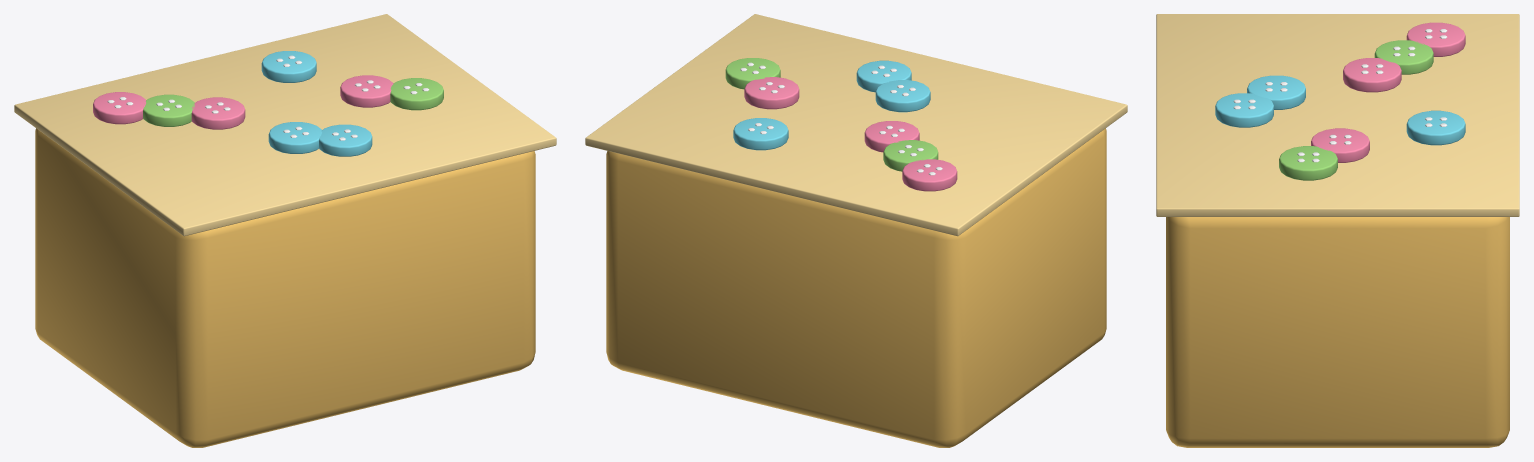
The model's file is object-button-box.glb.
The picture shows the model from 3 angles, left to right: view 1: azimuth 30°, elevation 25°; view 2: azimuth 150°, elevation 25°; view 3: azimuth 270°, elevation 25°; orthographic projection. The views are drawn at different scales.
Visible parts, largest first — view 1: Node_0-mesh, part-button-7-mesh, part-button-6-mesh, part-button-5-mesh, part-button-4-mesh, part-button-2-mesh, part-button-0-mesh, part-button-1-mesh, part-button-3-mesh; view 2: Node_0-mesh, part-button-7-mesh, part-button-0-mesh, part-button-1-mesh, part-button-2-mesh, part-button-3-mesh, part-button-4-mesh, part-button-5-mesh, part-button-6-mesh; view 3: Node_0-mesh, part-button-7-mesh, part-button-5-mesh, part-button-4-mesh, part-button-6-mesh, part-button-0-mesh, part-button-3-mesh, part-button-1-mesh, part-button-2-mesh.
Boxes of the visible parts, <box> form: Node_0-mesh: <box>14,14,556,447</box>; part-button-7-mesh: <box>261,51,316,82</box>; part-button-6-mesh: <box>191,97,245,129</box>; part-button-5-mesh: <box>390,78,443,110</box>; part-button-4-mesh: <box>319,124,372,156</box>; part-button-2-mesh: <box>340,75,393,107</box>; part-button-0-mesh: <box>93,92,145,124</box>; part-button-1-mesh: <box>268,122,321,153</box>; part-button-3-mesh: <box>143,94,194,126</box>; Node_0-mesh: <box>585,14,1127,447</box>; part-button-7-mesh: <box>733,118,788,150</box>; part-button-0-mesh: <box>902,159,957,191</box>; part-button-1-mesh: <box>875,80,930,112</box>; part-button-2-mesh: <box>744,77,799,109</box>; part-button-3-mesh: <box>883,140,938,171</box>; part-button-4-mesh: <box>856,60,911,92</box>; part-button-5-mesh: <box>725,58,780,89</box>; part-button-6-mesh: <box>864,121,919,152</box>; Node_0-mesh: <box>1156,14,1519,447</box>; part-button-7-mesh: <box>1406,110,1465,145</box>; part-button-5-mesh: <box>1279,146,1337,180</box>; part-button-4-mesh: <box>1215,93,1273,127</box>; part-button-6-mesh: <box>1343,58,1401,92</box>; part-button-0-mesh: <box>1406,22,1465,56</box>; part-button-3-mesh: <box>1374,40,1433,74</box>; part-button-1-mesh: <box>1247,75,1305,109</box>; part-button-2-mesh: <box>1311,128,1369,162</box>.
Bounding box in the file's own units: 0.94 × 0.6 × 0.74.
